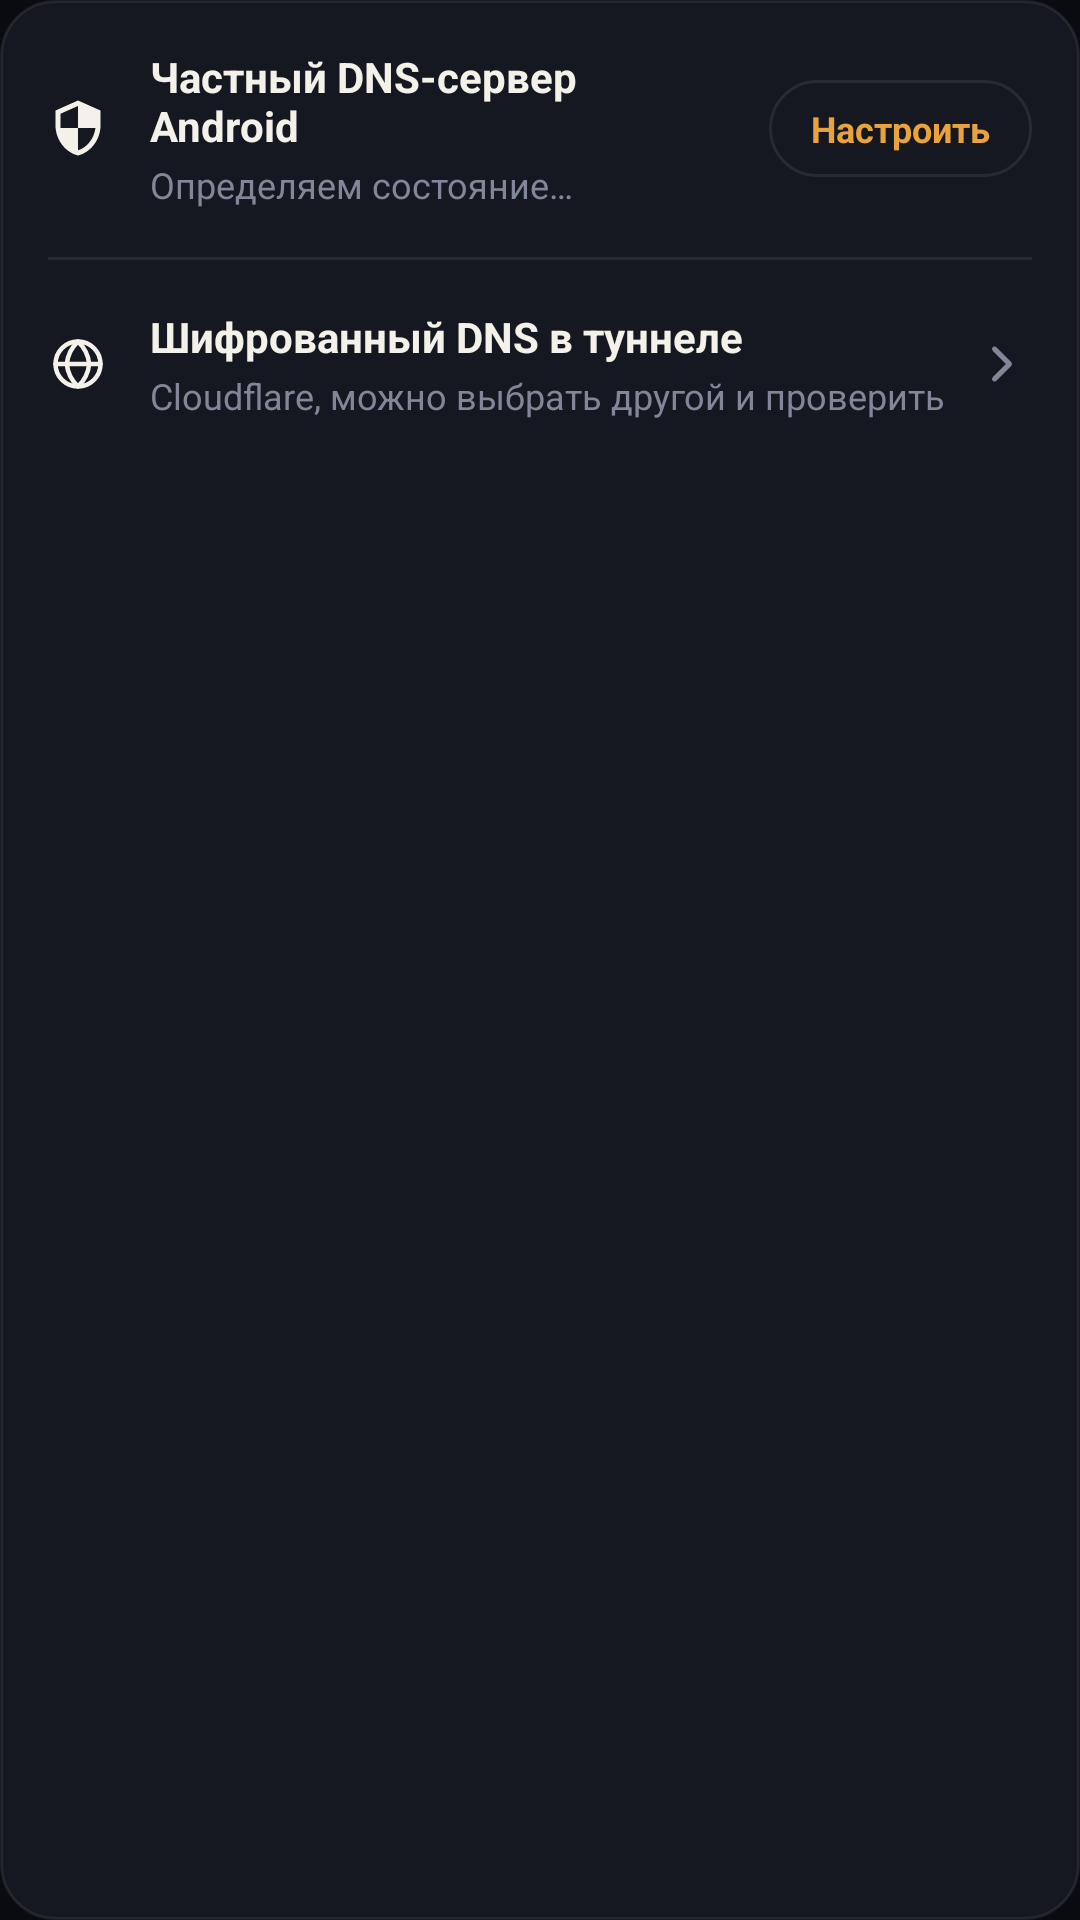

Icon bounding boxes for this 1080 x 1920 phone screenshot, format box=[x1, y1, x2, y2]:
chevron right: box=[992, 346, 1012, 382]
globe: box=[53, 339, 103, 389]
